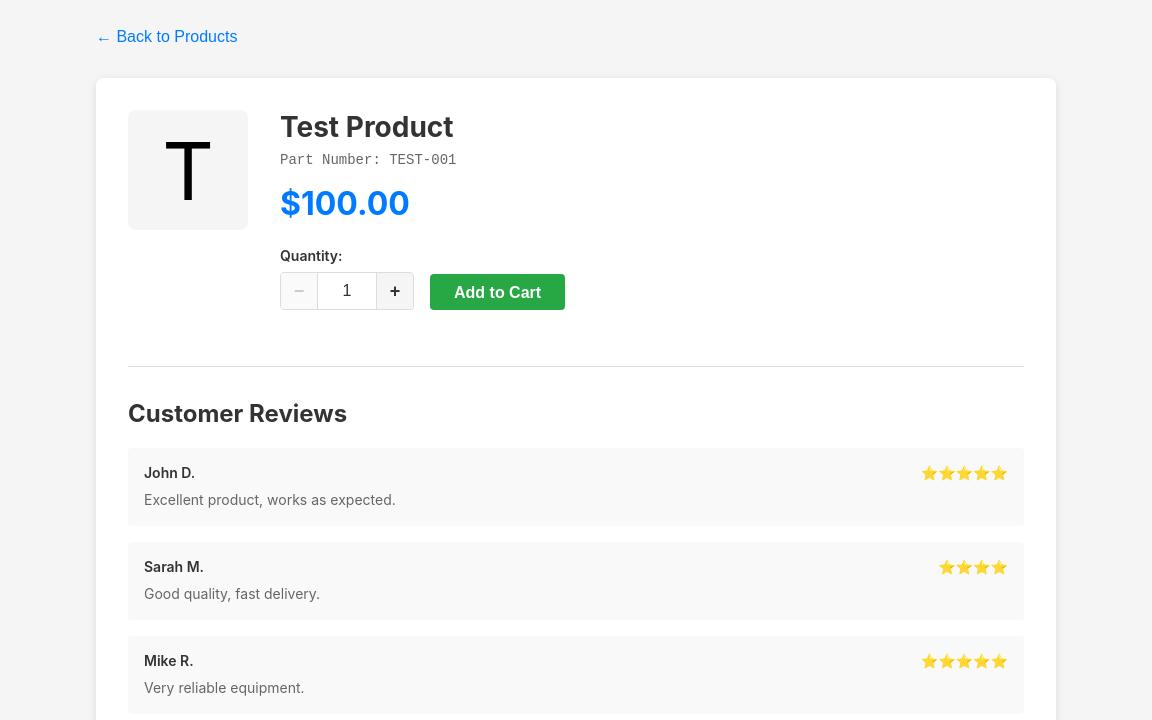
Test case: ProductPage › Add to Cart Functionality › should disable button while adding to cart
What coordinates should you click on to do the following:
click the button "Add to Cart"
I would click on:
 (498, 292)
Its box is [430,274,565,310].
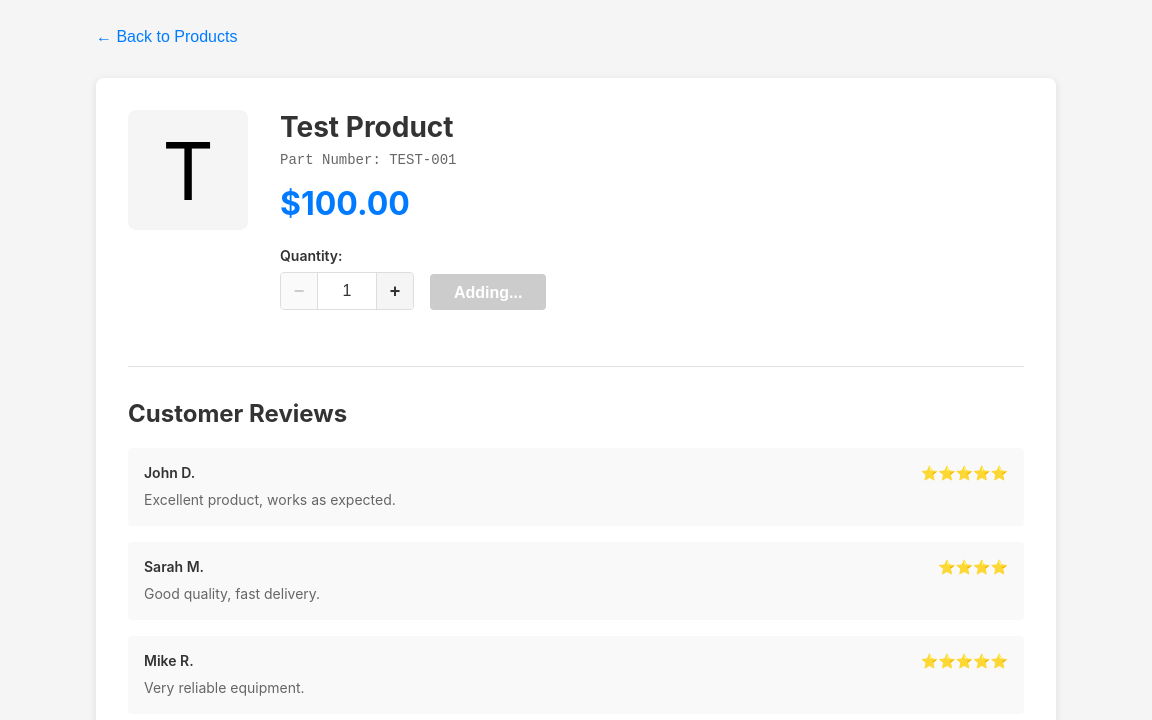
Expected: the button "Adding..." is disabled, [430,274,546,310]
